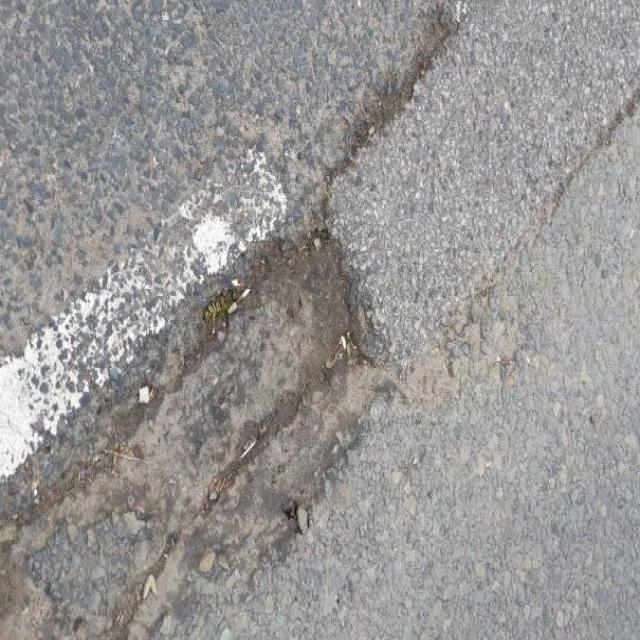pothole: (88, 188, 403, 534)
